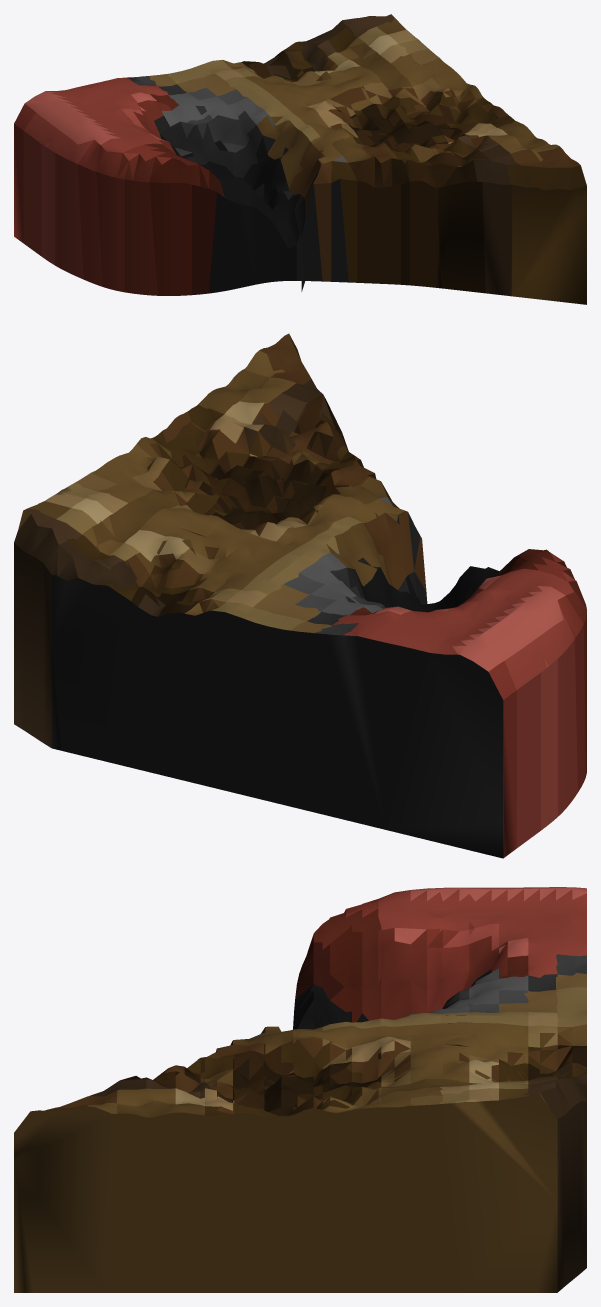
The model's file is tusk_boss_200.glb.
The picture shows the model from 3 angles, top to bottom: view 1: azimuth 30°, elevation 25°; view 2: azimuth 150°, elevation 25°; view 3: azimuth 270°, elevation 25°; orthographic projection. The views are drawn at different scales.
Visible parts, largest first — view 1: tusk_boss_200_plates; view 2: tusk_boss_200_plates; view 3: tusk_boss_200_plates.
Part boxes in pixels (x1=…): tusk_boss_200_plates: x1=14, y1=14, x2=586, y2=304; tusk_boss_200_plates: x1=14, y1=333, x2=586, y2=858; tusk_boss_200_plates: x1=14, y1=887, x2=586, y2=1292.
Bounding box in the file's own units: 19.01 × 8.03 × 19.51.
